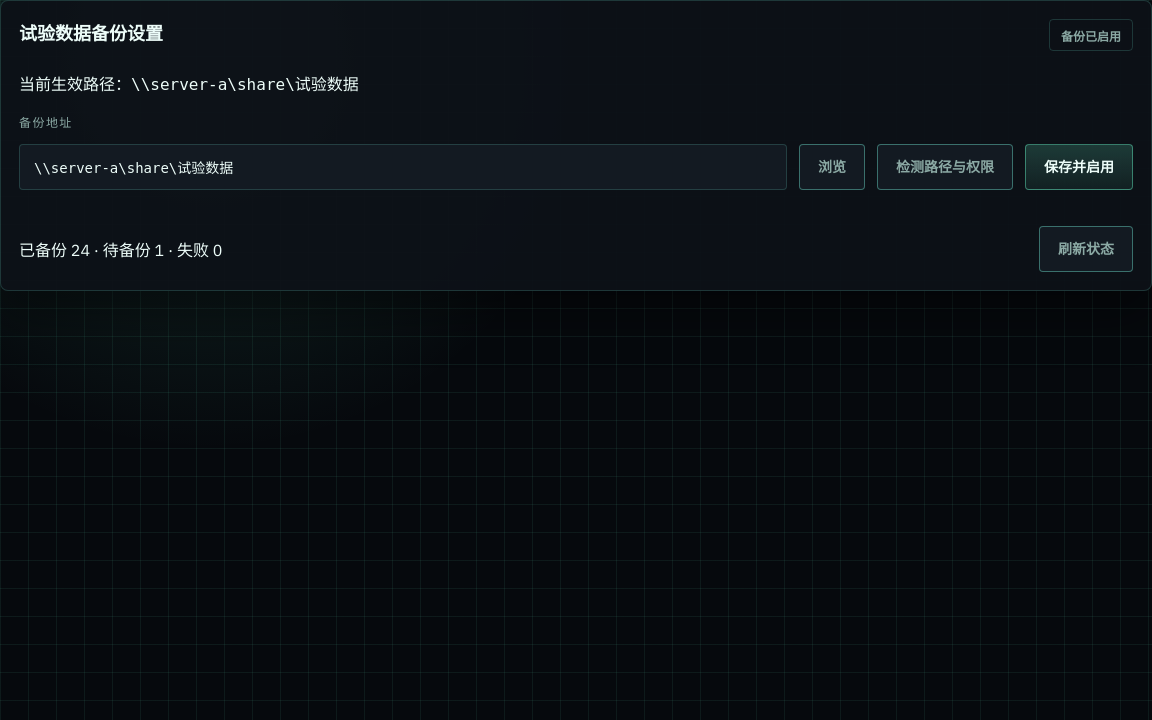
Test: BackupSettings › save changes effective path and clears dirty indicator
Replace the text in the field labelled "备份地址" with "\\\\server-b\\share\\试验数据": (403, 167) [19,144,787,190]
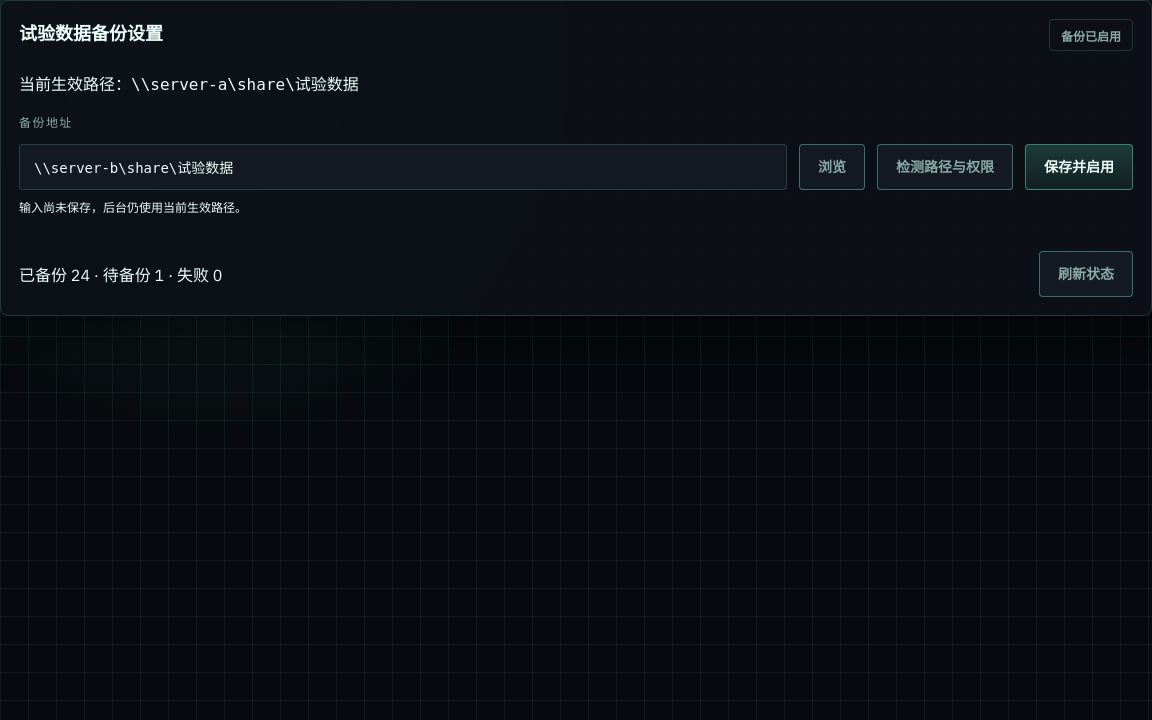
Submit the form, box [19,113,1133,215]
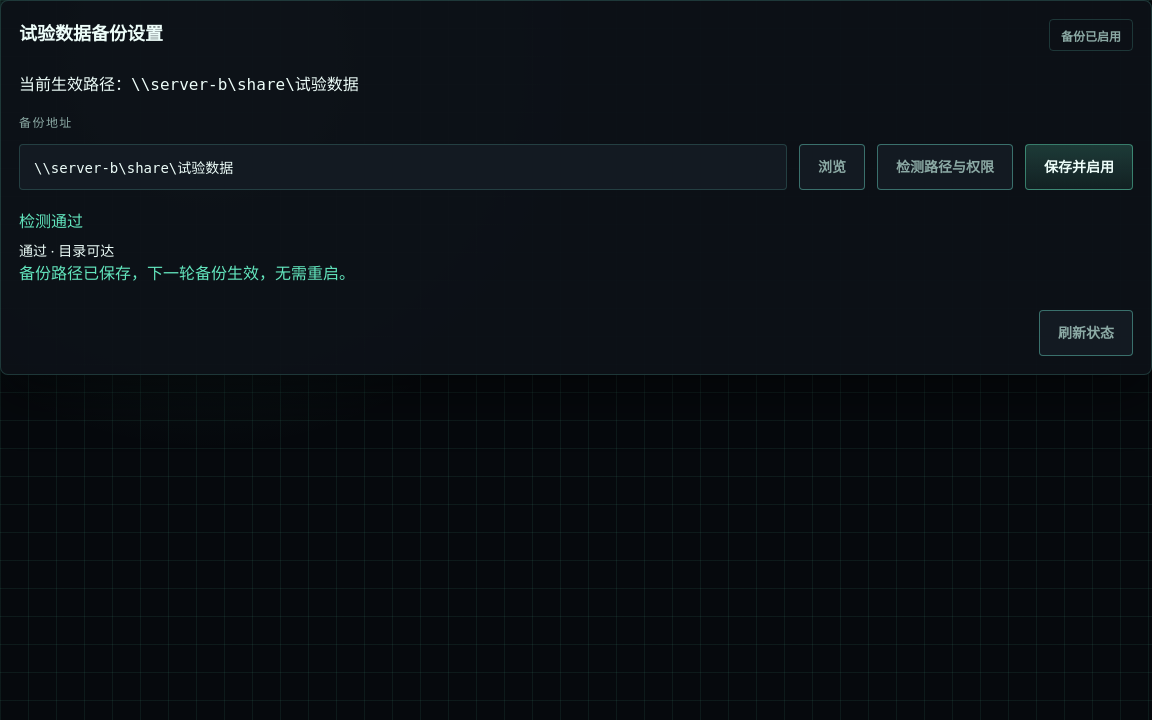
Expected: the text with test id "backup-current" reads "\\\\server-b\\share\\试验数据", [131,75,359,94]
Expected: the text "下一轮备份生效" is shown, [19,263,355,283]
